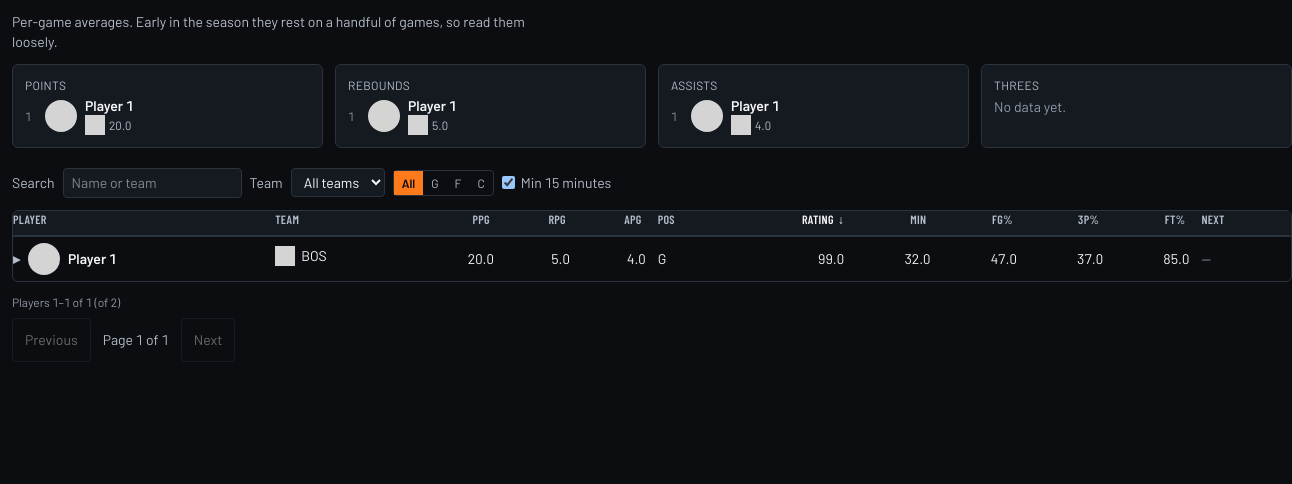
Scenario: PlayerHubPanel › hides the players who do not play, until the switch is turned off
Expected: the text "Player 1" is shown, [28, 242, 116, 274]
Expected: the text "Player 2" is not shown
Step 1. Click the checkbox labelled "Min 15 minutes" → (508, 182), box [502, 176, 515, 189]
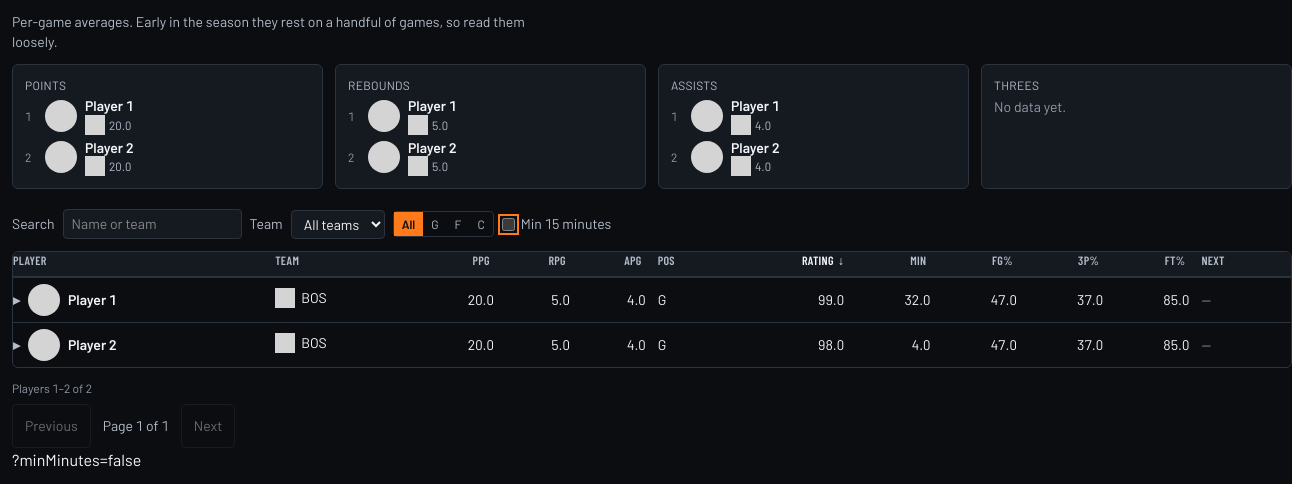
Now the text "Player 2" is shown, box [28, 329, 116, 361]
